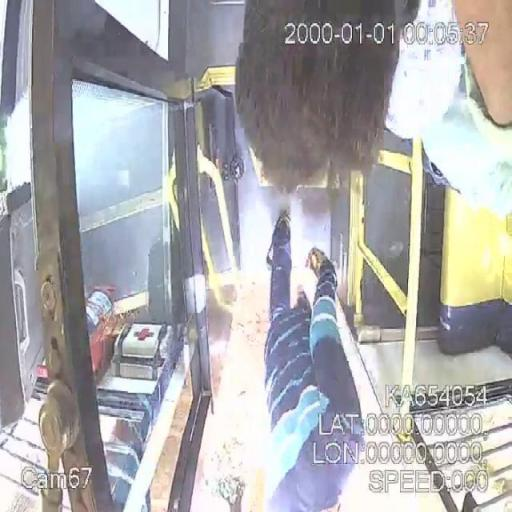persona: (238, 2, 466, 203), (262, 209, 366, 511)
